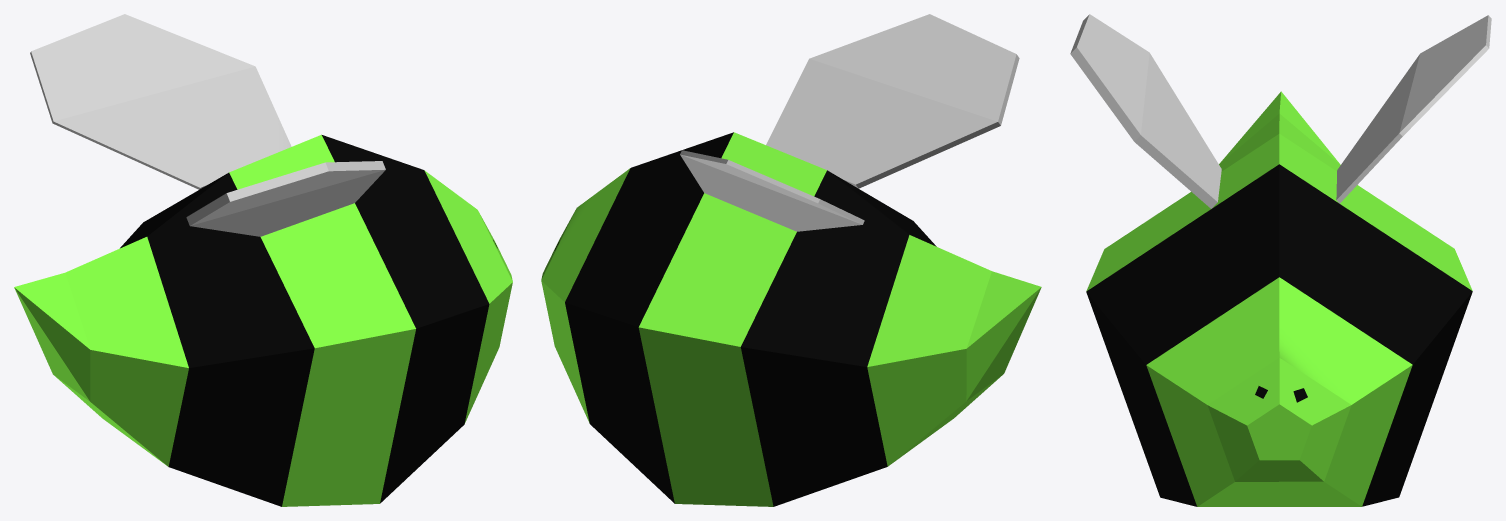
File: GreenBee.fbx
The picture shows the model from 3 angles, left to right: view 1: azimuth 30°, elevation 25°; view 2: azimuth 150°, elevation 25°; view 3: azimuth 270°, elevation 25°; orthographic projection. The views are drawn at different scales.
Visible parts, largest first — view 1: Cylinder; view 2: Cylinder; view 3: Cylinder.
Part boxes in pixels (left/top/right/bottom): Cylinder: left=14, top=14, right=512, bottom=506; Cylinder: left=541, top=14, right=1041, bottom=506; Cylinder: left=1070, top=14, right=1491, bottom=506.
Bounding box in the file's own units: 279 × 207 × 220.
1 material, 1 textured.
